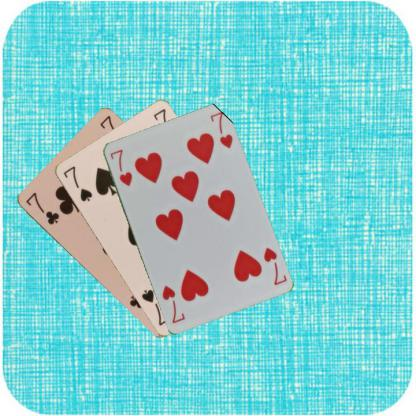7c: (23, 189, 61, 226)
7h: (260, 244, 288, 286), (107, 146, 133, 187)
7s: (60, 163, 94, 203)
